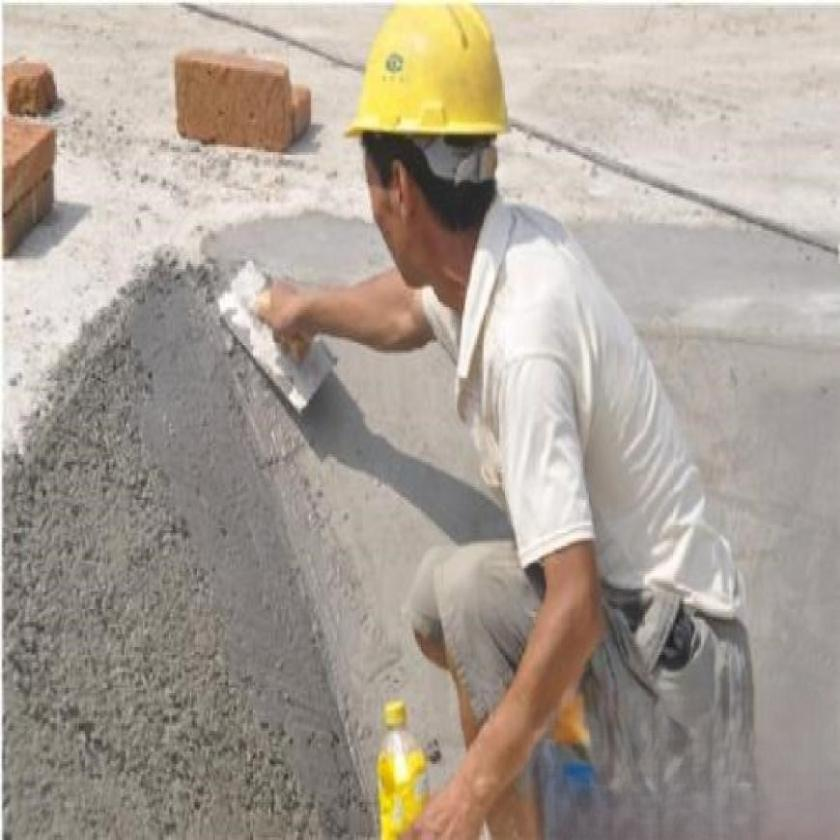Con_casco: (340, 0, 526, 293)
